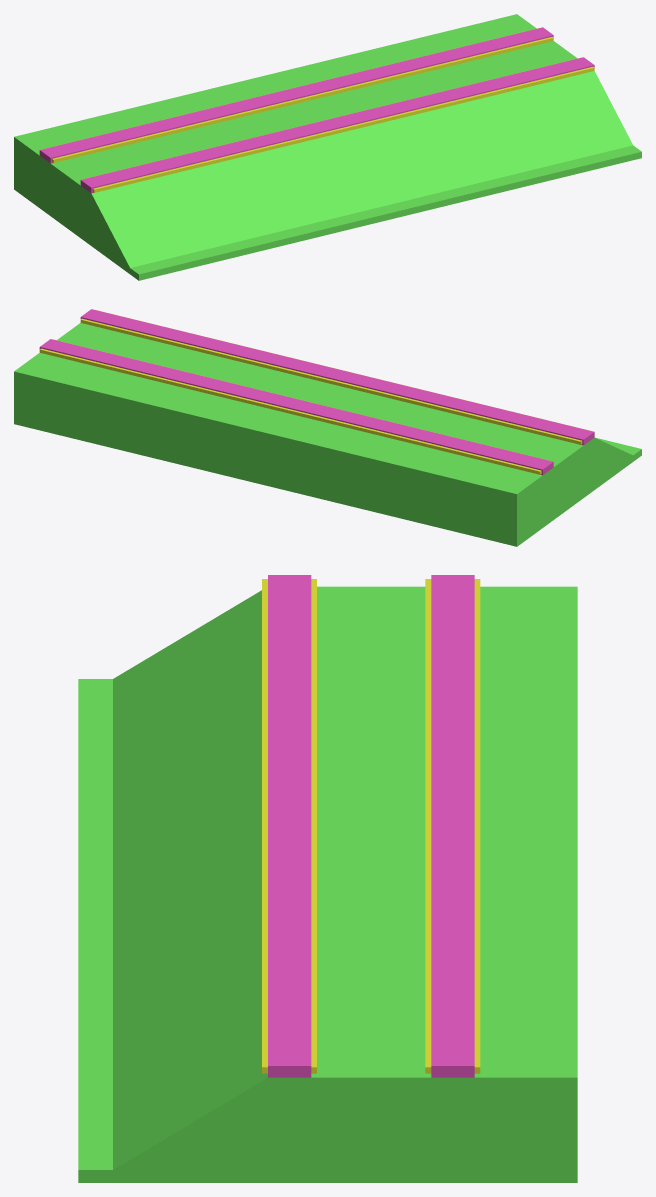
Rendered from Interior_Deco_01_Straight.fbx.
3 views of the same model, one above another, from view 1: azimuth 30°, elevation 25°; view 2: azimuth 150°, elevation 25°; view 3: azimuth 270°, elevation 25° (orthographic). The views are drawn at different scales.
Parts seen in each view (by area): view 1: Interior_Deco_01_Straight; view 2: Interior_Deco_01_Straight; view 3: Interior_Deco_01_Straight.
Part boxes in pixels (box(x1,y1,x2,y2)): Interior_Deco_01_Straight: box(14, 14, 641, 280); Interior_Deco_01_Straight: box(14, 309, 641, 546); Interior_Deco_01_Straight: box(78, 575, 577, 1182).
Bounding box in the file's own units: 457 × 50.68 × 197.
